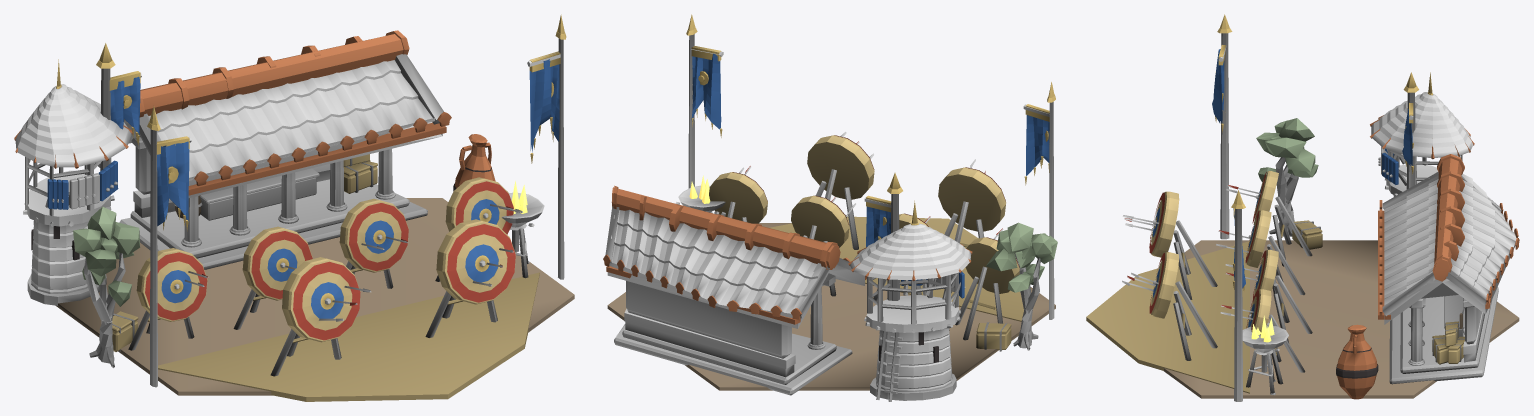
The model's file is archer-camp-l2.glb.
3 renders of one model, left to right at view 1: azimuth 30°, elevation 25°; view 2: azimuth 150°, elevation 25°; view 3: azimuth 270°, elevation 25°, orthographic. The views are drawn at different scales.
Parts seen in each view (by area): view 1: archer-camp-l2; view 2: archer-camp-l2; view 3: archer-camp-l2.
Boxes of the visible parts, bbox=[...] form: archer-camp-l2: bbox=[14, 14, 574, 401]; archer-camp-l2: bbox=[603, 14, 1057, 401]; archer-camp-l2: bbox=[1086, 14, 1519, 401].
Size of the model in its own units: 1.6 by 0.9368 by 1.63.
